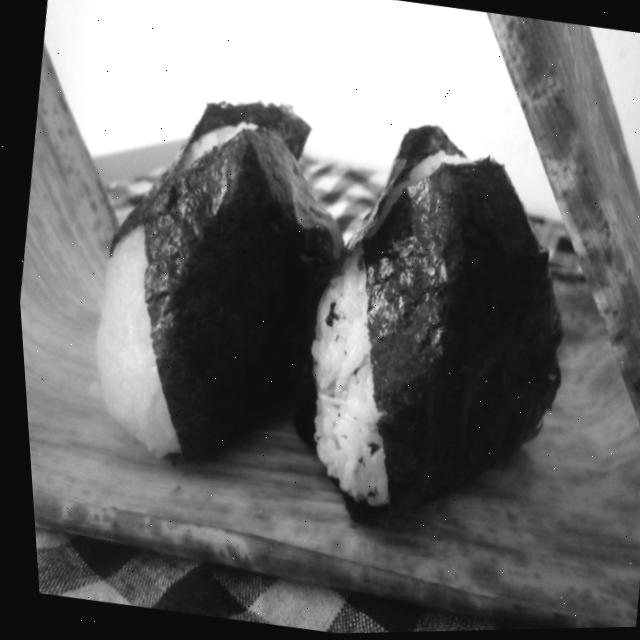米饭主食: (267, 102, 605, 539), (58, 68, 368, 482)
